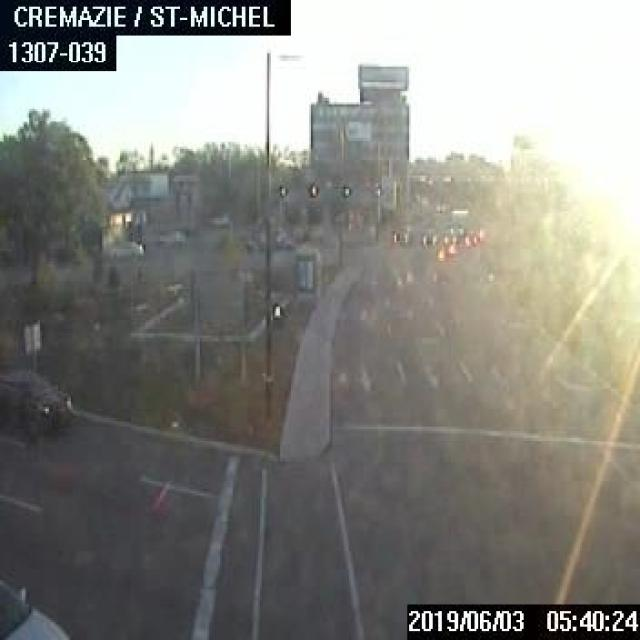vehicle: (0, 364, 73, 438), (0, 576, 69, 638), (108, 240, 142, 258), (391, 224, 410, 244), (419, 227, 436, 247), (463, 229, 477, 246), (442, 231, 456, 243)
